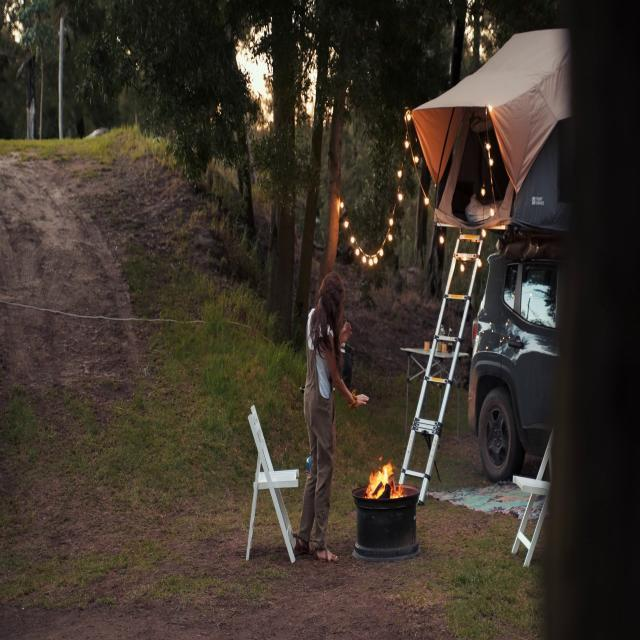Fire: (368, 450, 400, 502)
